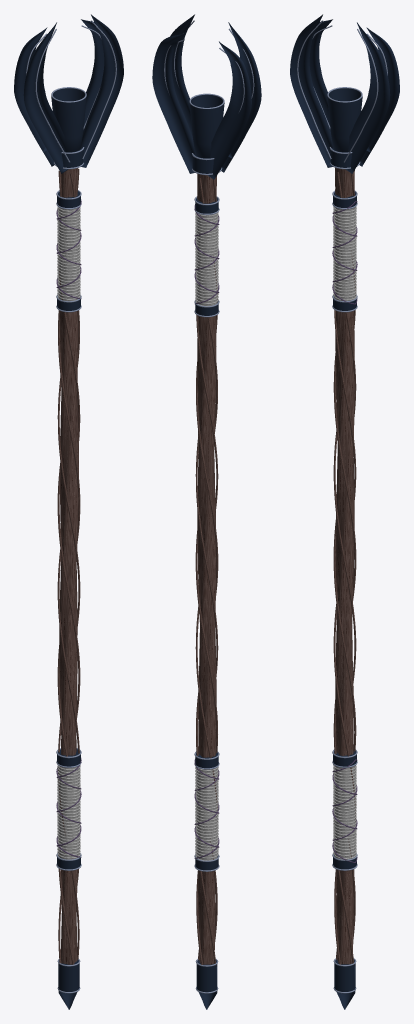
Rendered from magic_staff.glb.
3 views of the same model, side by side, from view 1: azimuth 30°, elevation 25°; view 2: azimuth 150°, elevation 25°; view 3: azimuth 330°, elevation 25° (orthographic).
Parts seen in each view (by area): view 1: magic oiled carved wood, Nightglass fittings, magic dark hand binding, magic worn fitting edges, Muted violet Void Thread; view 2: magic oiled carved wood, Nightglass fittings, magic dark hand binding, magic worn fitting edges, Muted violet Void Thread; view 3: magic oiled carved wood, Nightglass fittings, magic dark hand binding, magic worn fitting edges, Muted violet Void Thread.
Part boxes in pixels (left/top/right/bottom): magic oiled carved wood: left=57, top=168, right=80, bottom=964; Nightglass fittings: left=14, top=14, right=123, bottom=1009; magic dark hand binding: left=57, top=207, right=80, bottom=859; magic worn fitting edges: left=26, top=20, right=116, bottom=993; Muted violet Void Thread: left=56, top=199, right=81, bottom=857; magic oiled carved wood: left=195, top=174, right=218, bottom=965; Nightglass fittings: left=152, top=14, right=261, bottom=1009; magic dark hand binding: left=195, top=212, right=218, bottom=860; magic worn fitting edges: left=164, top=20, right=254, bottom=993; Muted violet Void Thread: left=194, top=204, right=219, bottom=858; magic oiled carved wood: left=333, top=168, right=356, bottom=964; Nightglass fittings: left=290, top=14, right=399, bottom=1009; magic dark hand binding: left=333, top=206, right=356, bottom=859; magic worn fitting edges: left=297, top=20, right=387, bottom=993; Muted violet Void Thread: left=332, top=201, right=357, bottom=863.
Bounding box in the file's own units: 0.2139 × 2.03 × 0.066.
Materials: 5 (2 with a texture image).
